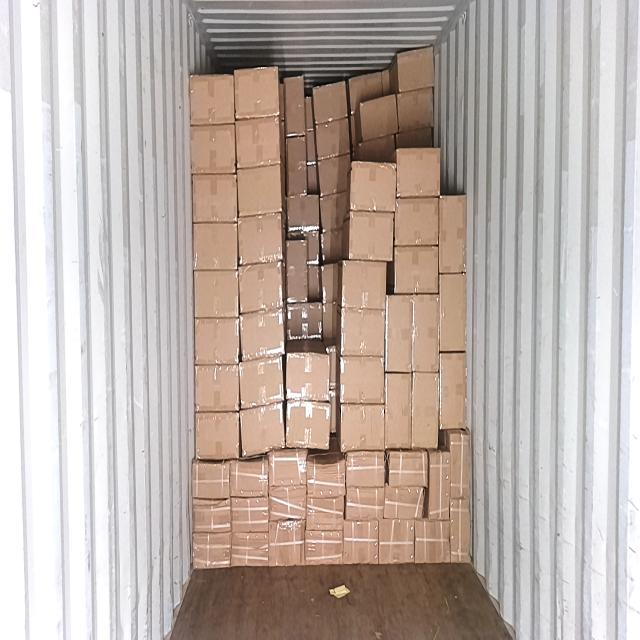carton: (194, 411, 239, 464), (440, 194, 469, 276), (194, 363, 240, 414), (411, 372, 439, 452), (240, 404, 283, 456), (235, 66, 277, 119), (340, 308, 386, 356), (287, 351, 331, 401), (194, 268, 239, 316), (340, 404, 385, 452), (195, 317, 239, 366), (194, 219, 238, 268), (192, 124, 236, 173), (190, 74, 233, 124), (191, 173, 237, 219), (350, 162, 396, 208), (412, 295, 438, 375), (441, 348, 467, 428), (237, 168, 282, 214), (342, 260, 388, 305), (397, 151, 442, 197), (340, 357, 384, 404), (386, 372, 412, 450), (349, 212, 394, 257), (394, 248, 439, 293), (237, 216, 283, 260), (234, 119, 278, 165), (242, 310, 283, 358), (286, 405, 331, 448), (396, 198, 439, 243), (388, 295, 413, 372), (441, 274, 466, 351), (238, 267, 282, 310), (240, 360, 282, 404), (384, 483, 426, 523), (362, 93, 397, 139), (268, 521, 304, 564), (287, 238, 310, 305), (399, 47, 434, 91), (345, 520, 379, 564), (308, 457, 346, 496), (379, 521, 415, 562), (450, 433, 472, 499), (415, 520, 451, 560), (316, 119, 351, 160), (451, 499, 473, 564), (285, 194, 318, 237), (193, 532, 231, 569), (192, 461, 230, 498), (232, 460, 268, 499), (398, 89, 434, 127), (286, 135, 308, 197), (314, 82, 348, 122), (268, 488, 306, 522), (388, 453, 428, 485), (305, 530, 342, 564), (346, 455, 386, 486), (286, 305, 322, 339), (231, 532, 268, 565), (284, 78, 305, 135), (269, 453, 306, 485), (345, 488, 384, 518), (431, 454, 449, 518), (194, 501, 230, 532), (320, 160, 350, 196), (232, 500, 268, 530), (308, 498, 344, 524)
